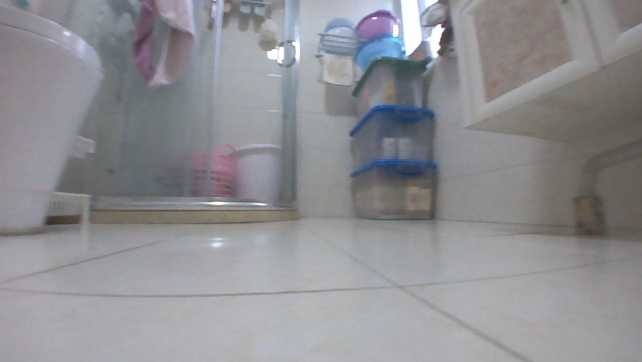toilet: (0, 2, 104, 233)
washstand: (448, 0, 641, 143)
